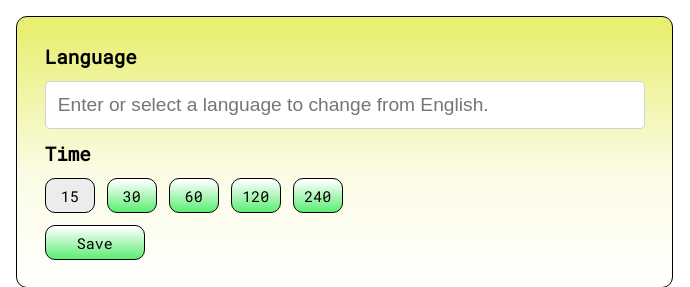
Test: Settings › selects a language using arrows and enter
This screenshot has width=690, height=287.
(page scrolled)
Click the field with test id "langInputField". click: point(345, 105)
box: [45,81,645,129]
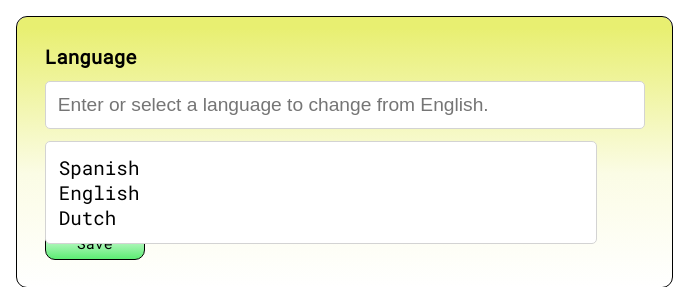
Press Arrowdown Enter
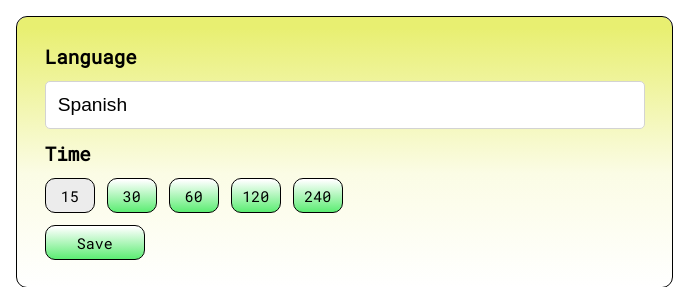
Check: the field with test id "langInputField" holds "Spanish", box [45,81,645,129]
